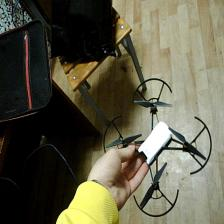drone: (99, 77, 215, 220)
